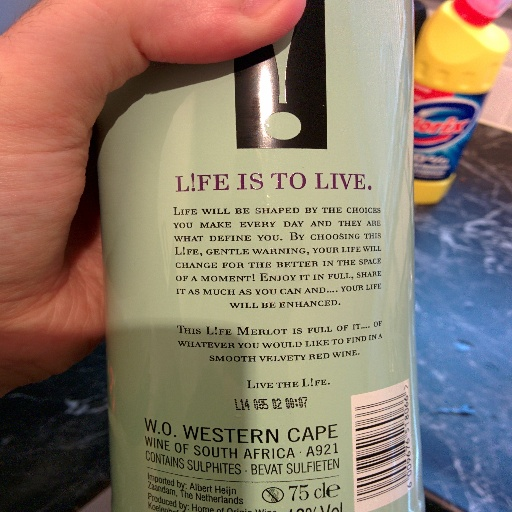hand: (0, 0, 308, 385)
